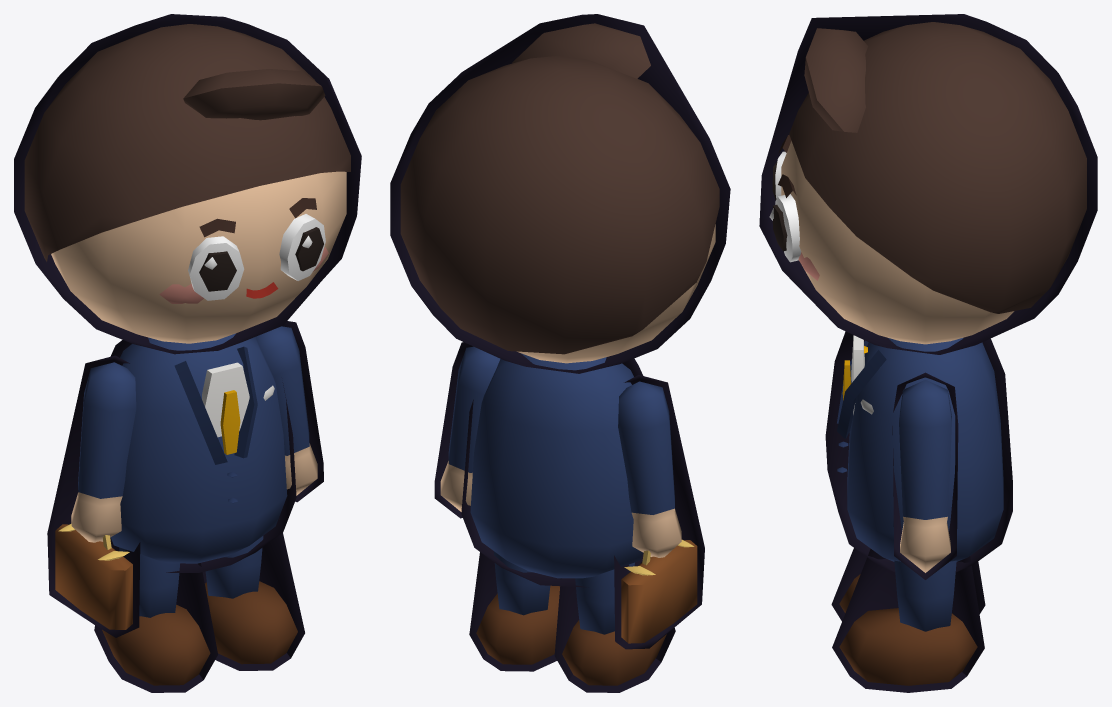
File: figur_anzug.glb
The picture shows the model from 3 angles, left to right: view 1: azimuth 30°, elevation 25°; view 2: azimuth 150°, elevation 25°; view 3: azimuth 270°, elevation 25°; orthographic projection. The views are drawn at different scales.
Parts seen in each view (by area): view 1: kopf, koerper, arm_r, bein_r, bein_l, arm_l; view 2: kopf, koerper, arm_r, bein_r, bein_l, arm_l; view 3: kopf, koerper, bein_l, arm_l, bein_r.
Part boxes in pixels (<box>): kopf: <box>14,14,361,354</box>; koerper: <box>110,333,296,572</box>; arm_r: <box>47,355,140,637</box>; bein_r: <box>94,547,217,692</box>; bein_l: <box>202,517,304,670</box>; arm_l: <box>256,321,323,502</box>; kopf: <box>390,14,730,373</box>; koerper: <box>461,353,643,587</box>; arm_r: <box>614,375,704,649</box>; bein_r: <box>554,562,675,692</box>; bein_l: <box>469,551,559,671</box>; arm_l: <box>434,342,500,518</box>; kopf: <box>759,14,1097,354</box>; koerper: <box>825,331,1012,572</box>; bein_l: <box>832,549,984,692</box>; arm_l: <box>892,372,958,579</box>; bein_r: <box>831,548,985,621</box>.
Size of the model in its own units: 0.6308 by 1.22 by 0.5981.
